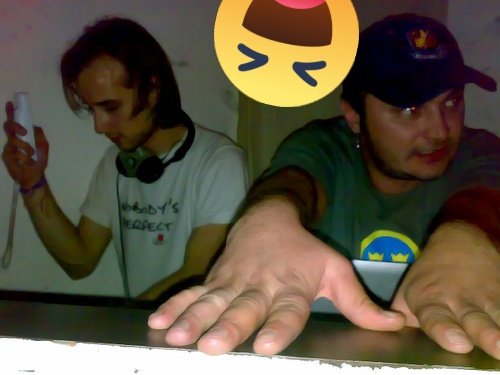haha: (214, 0, 359, 107)
